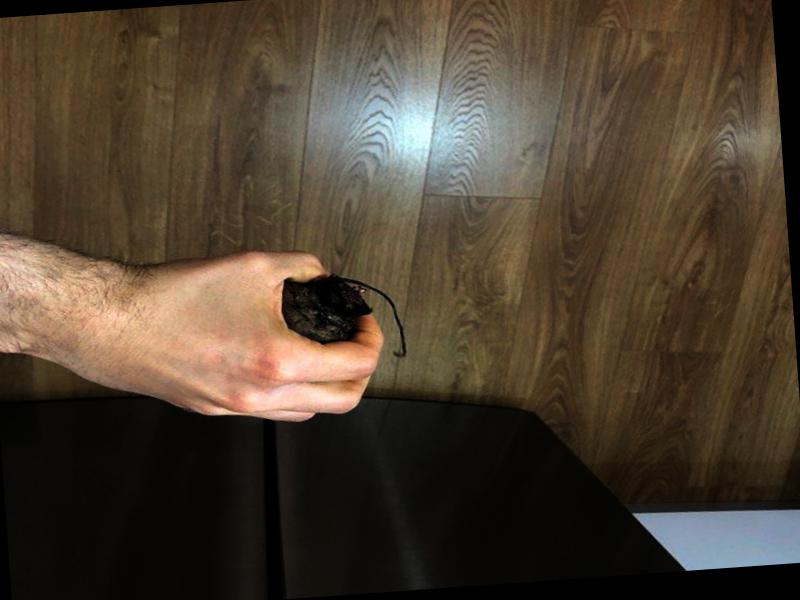Beet: (280, 270, 410, 367)
